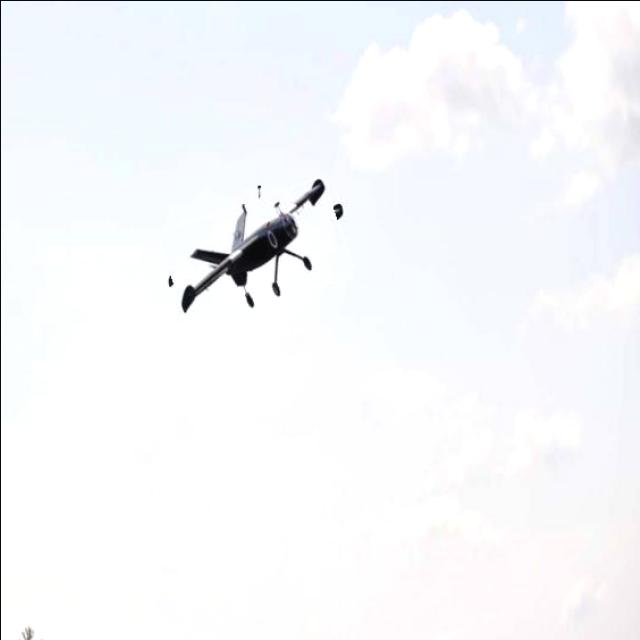plane: (174, 176, 344, 314)
